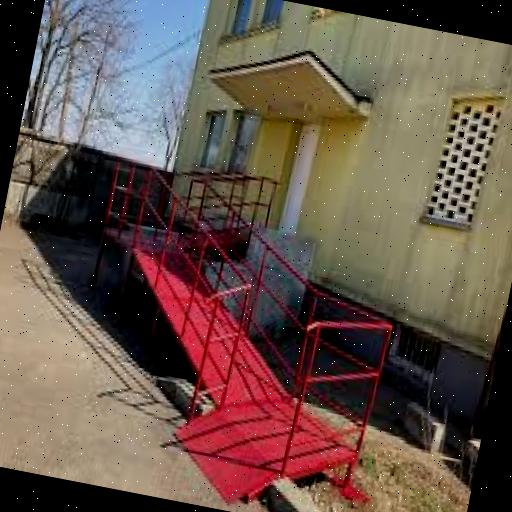ramp: (108, 241, 309, 420), (163, 405, 292, 512)
